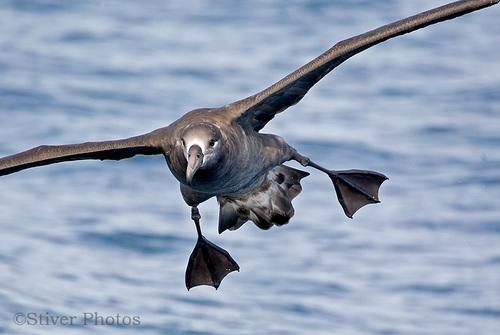bird: (1, 1, 499, 292)
